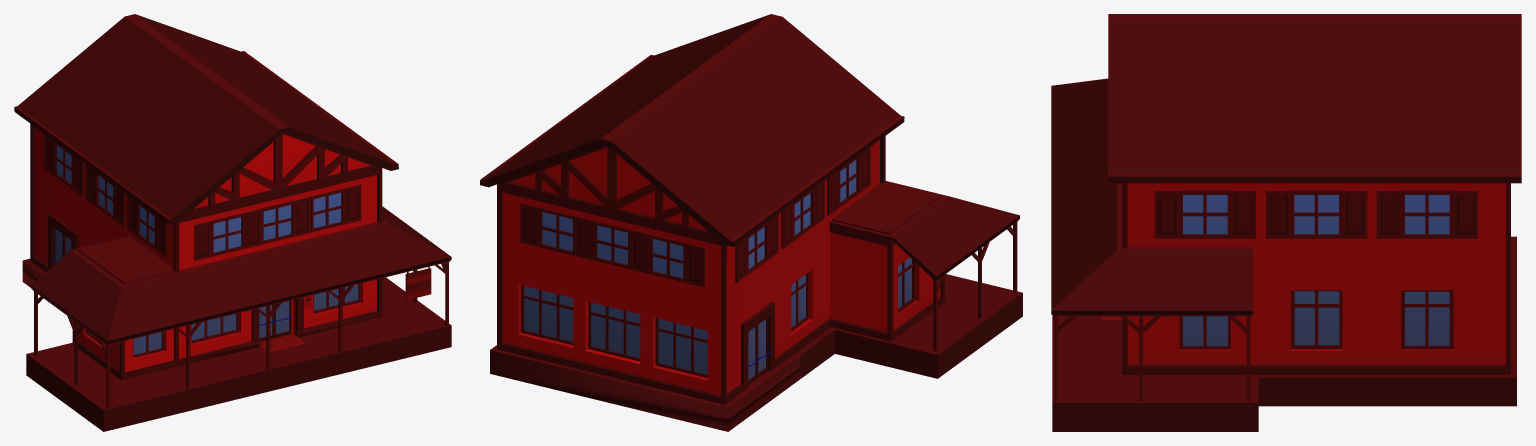
The model's file is buildings-business-generalstore_v1.fbx.
3 renders of one model, left to right at view 1: azimuth 30°, elevation 25°; view 2: azimuth 150°, elevation 25°; view 3: azimuth 270°, elevation 25°, orthographic. The views are drawn at different scales.
Parts seen in each view (by area): view 1: GeneralStore_base, GeneralStore_windowRefl; view 2: GeneralStore_base, GeneralStore_windowRefl; view 3: GeneralStore_base, GeneralStore_windowRefl.
Part boxes in pixels (x1,y1,x2,y2): GeneralStore_base: (14, 14, 451, 431); GeneralStore_windowRefl: (55, 145, 358, 354); GeneralStore_base: (480, 14, 1022, 431); GeneralStore_windowRefl: (524, 160, 911, 379); GeneralStore_base: (1051, 14, 1521, 431); GeneralStore_windowRefl: (1183, 195, 1449, 345).
Size of the model in its own units: 19.41 by 12.73 by 17.
